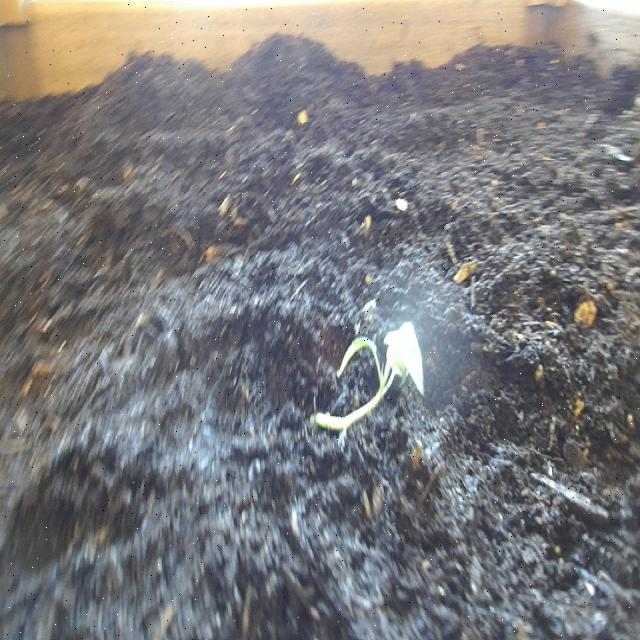Unhealthy: (305, 310, 430, 465)
